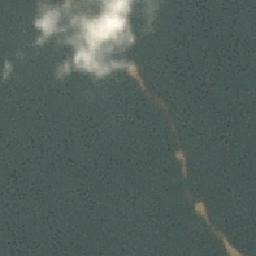cloud: (39, 1, 122, 79)
debris: (217, 226, 243, 256), (172, 132, 185, 175), (192, 197, 209, 228), (131, 66, 147, 94)
